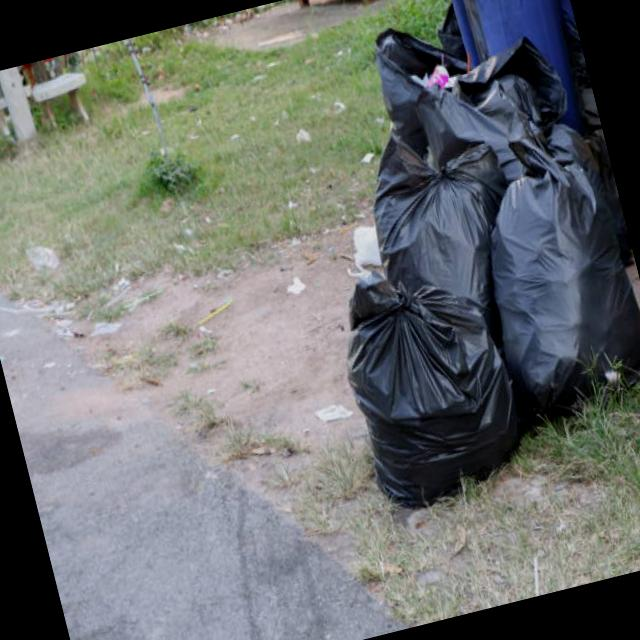garbage: (263, 0, 640, 527)
